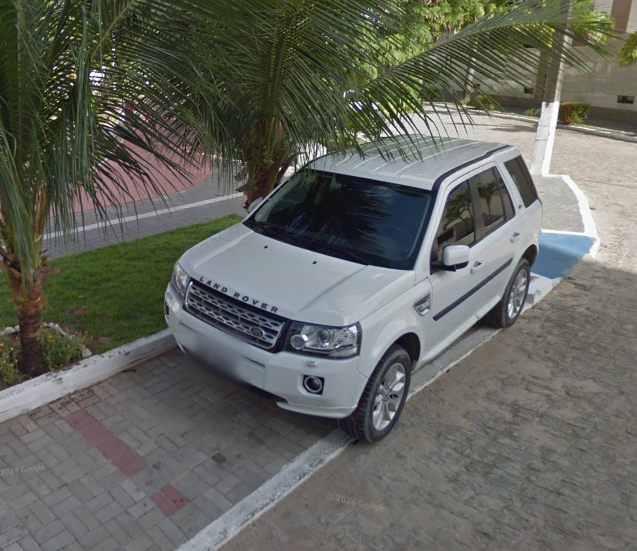car: (158, 127, 549, 446)
